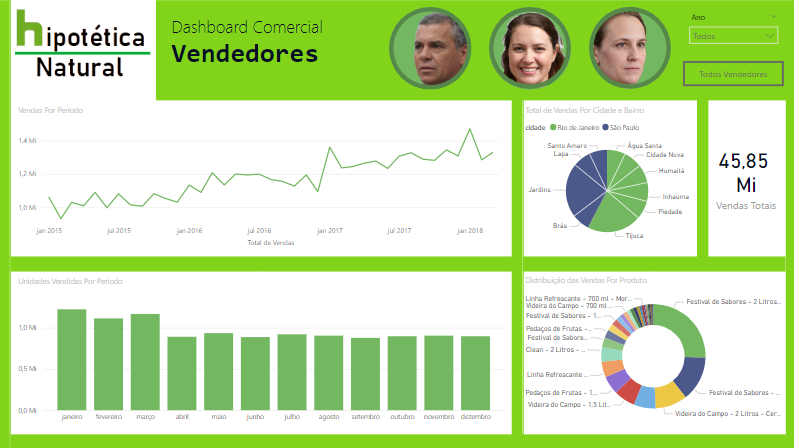

The dashboard page shown, as its layout file describes it:
{"tool":"powerbi","page":{"name":"Página 3","canvas":[1280,720],"ordinal":0},"visuals":[{"type":"image","box":[0,0,1281,722.2],"z":0},{"type":"textbox","box":[276.5,24.5,341.3,126.7],"z":1000},{"type":"shape","box":[627.8,16.3,130,130],"z":2000},{"type":"image","box":[628,16,152.5,139.2],"z":3000},{"type":"shape","box":[626.9,16.4,131.3,131.3],"z":4000},{"type":"shape","box":[785.6,17.1,130.6,129.9],"z":5000},{"type":"image","box":[787.8,17.1,138.8,134.3],"z":6000},{"type":"shape","box":[786.3,16.4,129.9,129.9],"z":7000},{"type":"shape","box":[943.8,15.7,130,130],"z":8000},{"type":"image","box":[893.1,8.6,202.1,145],"z":9000},{"type":"shape","box":[943.8,15.7,130,130],"z":10000},{"type":"slicer","title":"Segmentação de Dados","fields":{"Values":["Consulta1.DATA_VENDA.Variation.Hierarquia de datas.Ano"]},"box":[1093,18.7,161.3,82.1],"z":11000},{"type":"lineChart","title":"Vendas Por Período","fields":{"Category":["Consulta1.DATA_VENDA.Variation.Hierarquia de datas.Ano","Consulta1.DATA_VENDA.Variation.Hierarquia de datas.Mês"],"Y":["Sum(Consulta1.valor)"]},"box":[33.1,171.4,783.4,230.4],"z":11001},{"type":"clusteredColumnChart","title":"Unidades Vendidas Por Período","fields":{"Y":["Sum(Consulta1.quantidade)"],"Category":["Consulta1.DATA_VENDA.Variation.Hierarquia de datas.Ano","Consulta1.DATA_VENDA.Variation.Hierarquia de datas.Mês"]},"box":[33.1,442.1,783.4,241.9],"z":11002},{"type":"card","fields":{"Values":["Sum(Consulta1.valor)"]},"box":[1133.9,171.3,120.9,230.1],"z":11003},{"type":"donutChart","title":"Distribuição das Vendas Por Produto","fields":{"Category":["Consulta1.NOME_DO_PRODUTO"],"Y":["Sum(Consulta1.valor)"]},"box":[838.2,441.8,416.6,241.9],"z":11004},{"type":"pieChart","title":"Total de Vendas Por Cidade e Bairro","fields":{"Category":["Consulta1.cidade"],"Y":["Sum(Consulta1.valor)"],"Series":["Consulta1.bairro"]},"box":[838.2,171.3,270.4,230.1],"z":11005},{"type":"actionButton","box":[1094.4,100.8,159.8,40.3],"z":11006}]}

Visuals, with their boxes in screenshot pixels (x1, y1, x2, y2), scaled from the page's 1280x720 canvas onto the 794x448 screenshot:
image: l=0, t=0, r=793, b=447
textbox: l=172, t=15, r=383, b=94
shape: l=389, t=10, r=470, b=91
image: l=390, t=10, r=484, b=97
shape: l=389, t=10, r=470, b=92
shape: l=487, t=11, r=568, b=91
image: l=489, t=11, r=575, b=94
shape: l=488, t=10, r=568, b=91
shape: l=585, t=10, r=666, b=91
image: l=554, t=5, r=679, b=96
shape: l=585, t=10, r=666, b=91
"Segmentação de Dados" slicer: l=678, t=12, r=778, b=63
"Vendas Por Período" lineChart: l=21, t=107, r=506, b=250
"Unidades Vendidas Por Período" clusteredColumnChart: l=21, t=275, r=506, b=426
card - Sum(Consulta1.valor): l=703, t=107, r=778, b=250
"Distribuição das Vendas Por Produto" donutChart: l=520, t=275, r=778, b=425
"Total de Vendas Por Cidade e Bairro" pieChart: l=520, t=107, r=688, b=250
actionButton: l=679, t=63, r=778, b=88
